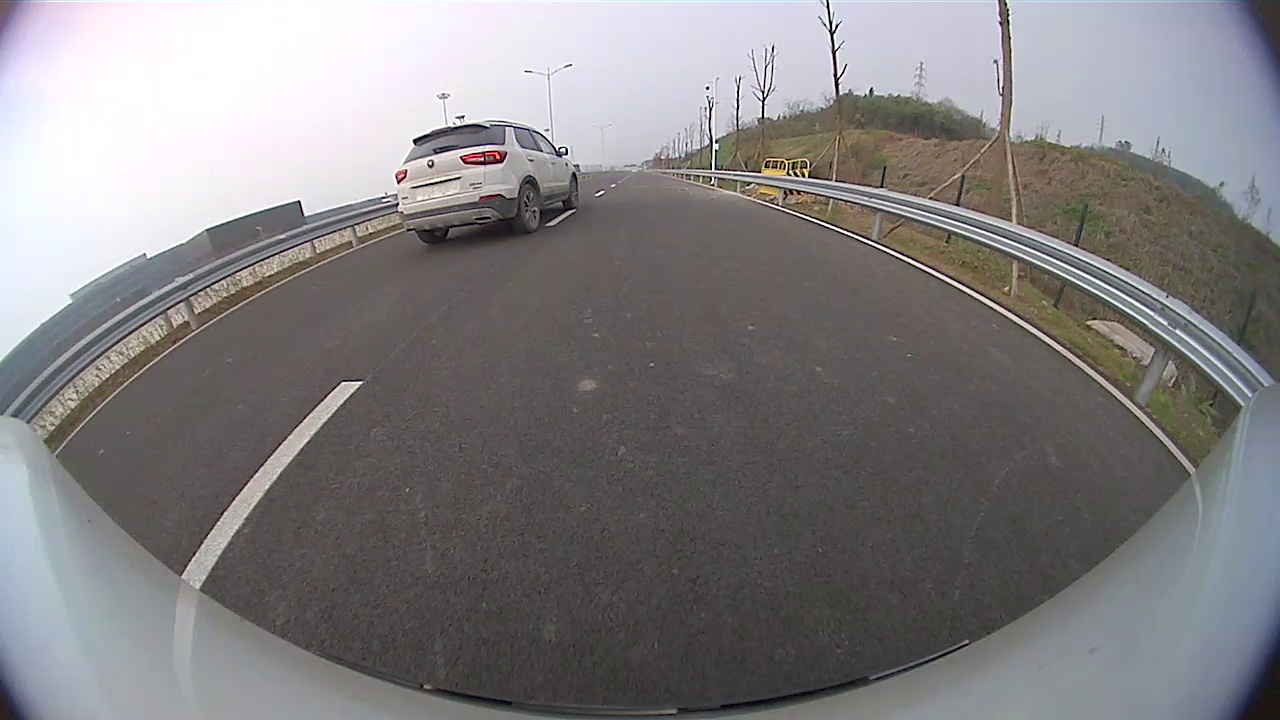car: (395, 117, 583, 248)
front: (566, 174, 581, 209)
rear: (516, 183, 542, 233)
